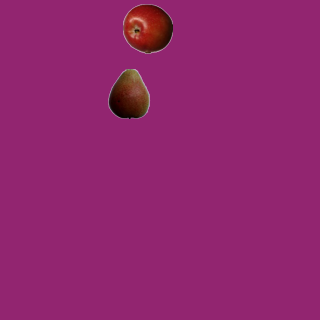Apple Braeburn: (122, 3, 172, 53)
Pear Forelle: (103, 68, 153, 118)
